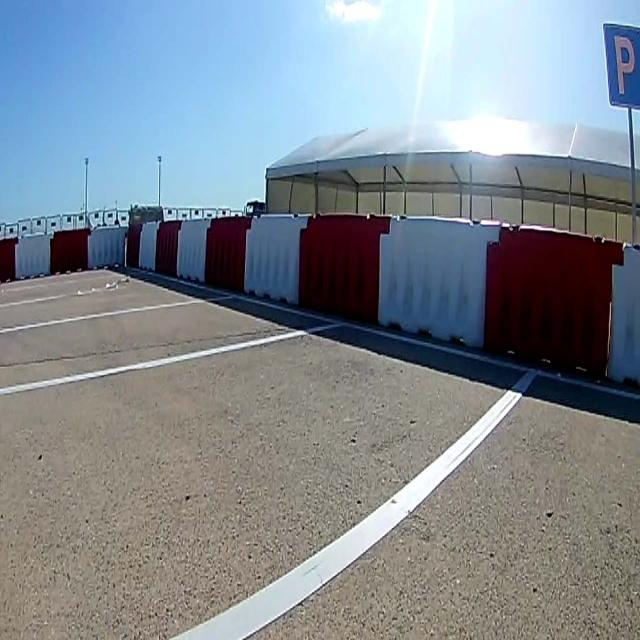park: (603, 23, 640, 110)
